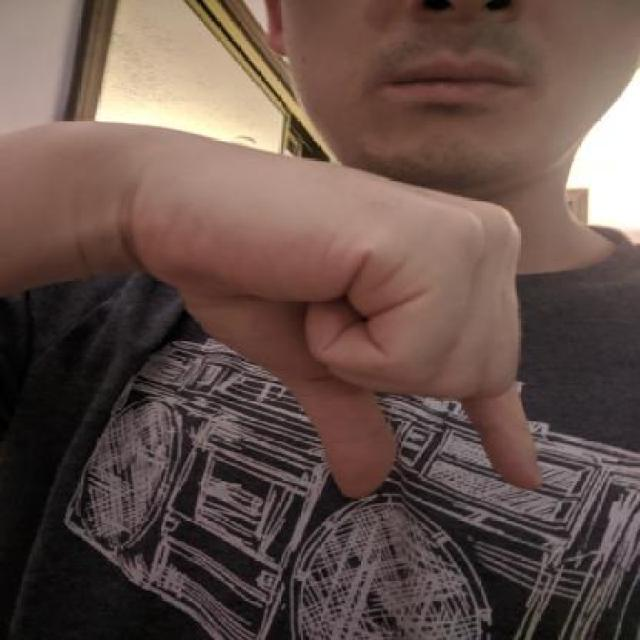Q: (108, 101, 561, 514)
